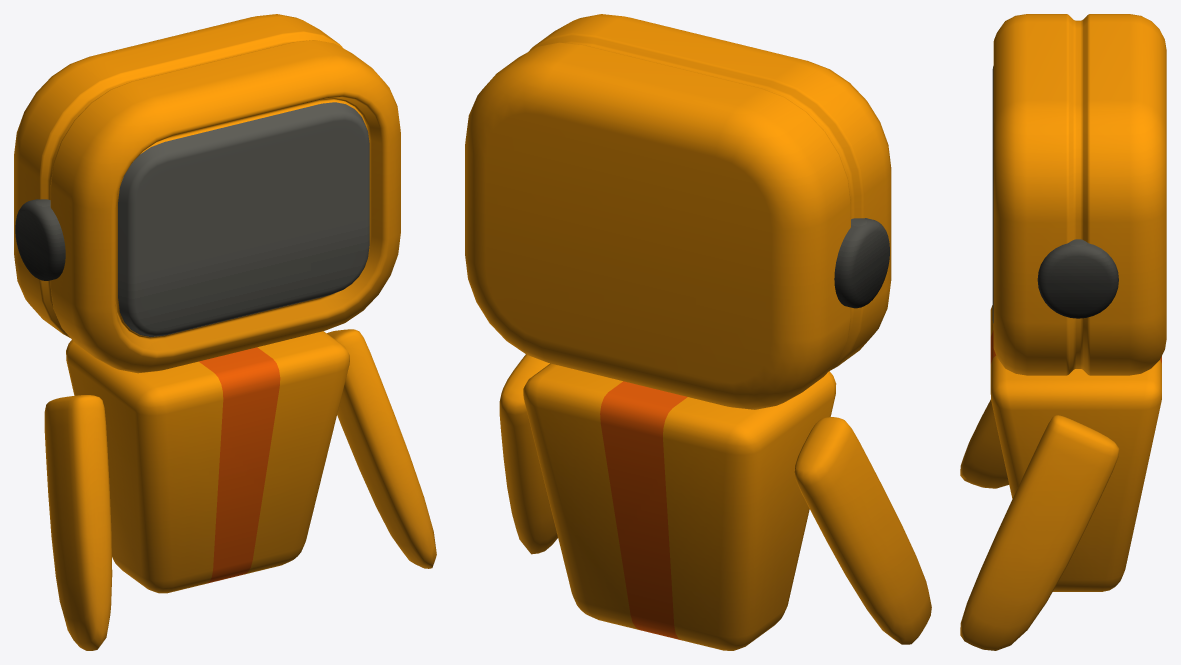
Rendered from Robot.glb.
The picture shows the model from 3 angles, left to right: view 1: azimuth 30°, elevation 25°; view 2: azimuth 150°, elevation 25°; view 3: azimuth 270°, elevation 25°; orthographic projection. The views are drawn at different scales.
Parts seen in each view (by area): view 1: head, body, arms, ears; view 2: head, body, arms, ears; view 3: head, arms, body, ears.
Part boxes in pixels (x1,y1,x2,y2): head: (14,14,400,373); body: (66,331,349,593); arms: (44,329,436,650); ears: (15,199,65,280); head: (465,14,891,409); body: (523,363,836,650); arms: (499,354,931,644); ears: (834,218,889,308); head: (992,14,1166,375); arms: (960,399,1119,650); body: (990,305,1161,591); ears: (1037,239,1118,318).
Bounding box in the file's own units: 2.16 × 3.05 × 1.12.
Materials: 1 (1 with a texture image).
